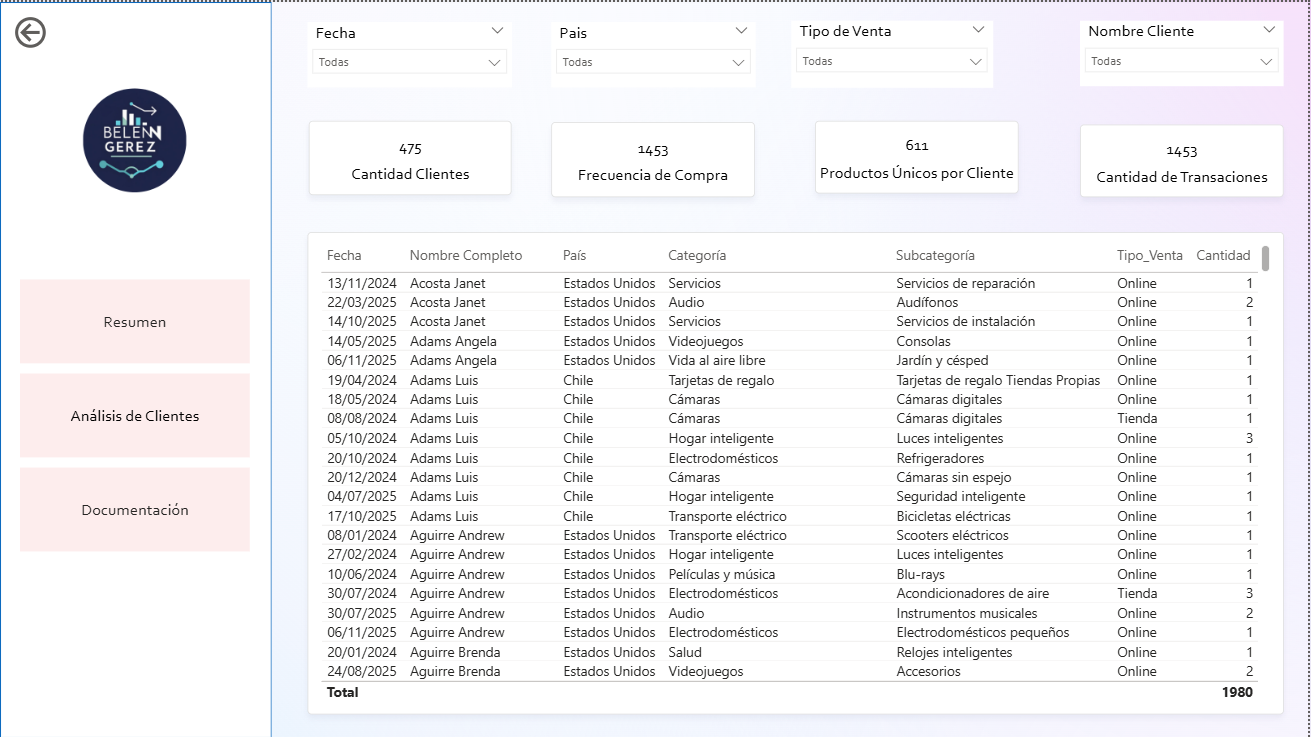

This screenshot's page, from the dashboard's own definition file:
{"tool":"powerbi","page":{"name":"Análisis de Clientes","canvas":[1280,720],"ordinal":1},"visuals":[{"type":"shape","box":[0,0,265.9,720],"z":0},{"type":"slicer","fields":{"Values":["Calendario.Date.Variación.Jerarquía de fechas.Año","Calendario.Date.Variación.Jerarquía de fechas.Mes","Calendario.Date.Variación.Jerarquía de fechas.Día"]},"box":[300.7,20.2,199.9,63.8],"z":1000},{"type":"slicer","fields":{"Values":["Datos_Clientes.País"]},"box":[539.2,19.4,200.2,64.2],"z":2000},{"type":"slicer","fields":{"Values":["Ventas.Tipo_Venta"]},"box":[774.4,18.8,197.4,65.8],"z":3000},{"type":"card","fields":{"Values":["Medidas.Cantidad Clientes"]},"box":[301.6,116.7,198.7,73.2],"z":4000},{"type":"tableEx","fields":{"Values":["Ventas.Fecha","Datos_Clientes.Nombre Completo","Datos_Clientes.País","Categorías_Productos.Categoría","Categorías_Productos.Subcategoría","Ventas.Tipo_Venta","Ventas.Cantidad"]},"box":[300.7,225.6,954.8,471.8],"z":5000},{"type":"card","fields":{"Values":["Medidas.Frecuencia de Compra"]},"box":[539.4,117.8,199,73.3],"z":6000},{"type":"slicer","fields":{"Values":["Datos_Clientes.Nombre Completo"]},"box":[1056.3,18.8,199.2,63.9],"z":7000},{"type":"card","fields":{"Values":["Medidas.Productos Únicos por Cliente"]},"box":[797,116.5,199.2,71.4],"z":8000},{"type":"card","fields":{"Values":["Medidas.Cantidad de Transaciones"]},"box":[1056.3,120.3,199.2,71.4],"z":9000},{"type":"pageNavigator","box":[19.4,271.9,225.6,268.9],"z":10000},{"type":"actionButton","box":[10,10,100,40],"z":11000},{"type":"image","box":[9,40.3,246.5,209.1],"z":12000}]}

Visuals, with their boxes on the page's 1280x720 design canvas (x1, y1, x2, y2). These are canvas units, not pixel positions in the 1311x737 screenshot, which may show the page scaled, cropped or inside an application window:
shape: rect(0, 0, 266, 720)
slicer - Calendario.Date.Variación.Jerarquía de fechas.Año x Calendario.Date.Variación.Jerarquía de fechas.Mes: rect(301, 20, 501, 84)
slicer - Datos_Clientes.País: rect(539, 19, 739, 84)
slicer - Ventas.Tipo_Venta: rect(774, 19, 972, 85)
card - Medidas.Cantidad Clientes: rect(302, 117, 500, 190)
tableEx - Ventas.Fecha x Datos_Clientes.Nombre Completo: rect(301, 226, 1256, 697)
card - Medidas.Frecuencia de Compra: rect(539, 118, 738, 191)
slicer - Datos_Clientes.Nombre Completo: rect(1056, 19, 1256, 83)
card - Medidas.Productos Únicos por Cliente: rect(797, 116, 996, 188)
card - Medidas.Cantidad de Transaciones: rect(1056, 120, 1256, 192)
pageNavigator: rect(19, 272, 245, 541)
actionButton: rect(10, 10, 110, 50)
image: rect(9, 40, 256, 249)
